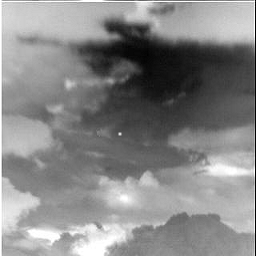Target: (117, 131, 123, 137)
